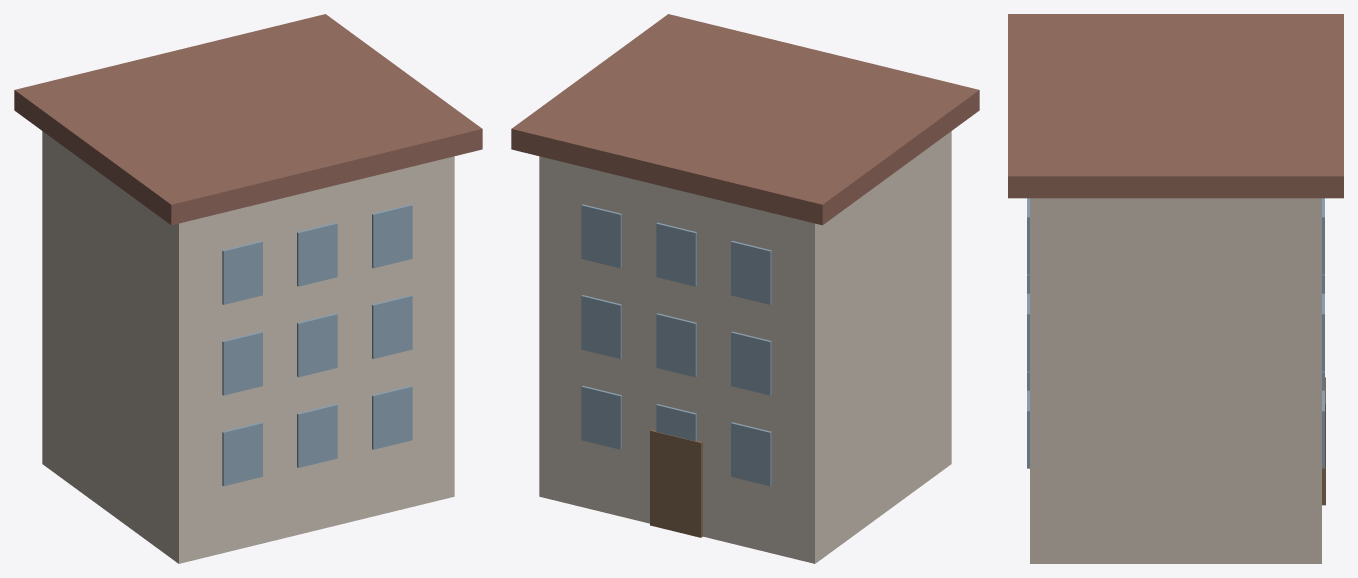
The model's file is building.glb.
3 renders of one model, left to right at view 1: azimuth 30°, elevation 25°; view 2: azimuth 150°, elevation 25°; view 3: azimuth 270°, elevation 25°, orthographic. The views are drawn at different scales.
Parts seen in each view (by area): view 1: Cube, Cube.020, Cube.013, Cube.010, Cube.011, Cube.012, Cube.014, Cube.015, Cube.016, Cube.018, Cube.017; view 2: Cube, Cube.020, Cube.019, Cube.001, Cube.002, Cube.003, Cube.005, Cube.006, Cube.007, Cube.009, Cube.008, Cube.004; view 3: Cube, Cube.020.
Part boxes in pixels (box(x1,y1,x2,y2)): Cube: box(42, 131, 454, 563); Cube.020: box(14, 14, 482, 225); Cube.013: box(297, 404, 337, 467); Cube.010: box(222, 422, 262, 486); Cube.011: box(222, 331, 262, 395); Cube.012: box(222, 241, 262, 304); Cube.014: box(297, 313, 337, 377); Cube.015: box(297, 222, 337, 286); Cube.016: box(372, 386, 412, 449); Cube.018: box(372, 204, 412, 268); Cube.017: box(372, 295, 412, 358); Cube: box(539, 131, 951, 563); Cube.020: box(511, 14, 979, 225); Cube.019: box(650, 429, 702, 537); Cube.001: box(731, 422, 771, 486); Cube.002: box(731, 331, 771, 395); Cube.003: box(731, 241, 771, 304); Cube.005: box(656, 313, 696, 377); Cube.006: box(656, 222, 696, 286); Cube.007: box(581, 386, 621, 449); Cube.009: box(581, 204, 621, 268); Cube.008: box(581, 295, 621, 358); Cube.004: box(656, 404, 696, 441); Cube: box(1030, 198, 1321, 563); Cube.020: box(1008, 14, 1343, 198).
Bounding box in the file's own units: 7.9 × 9 × 6.9.
